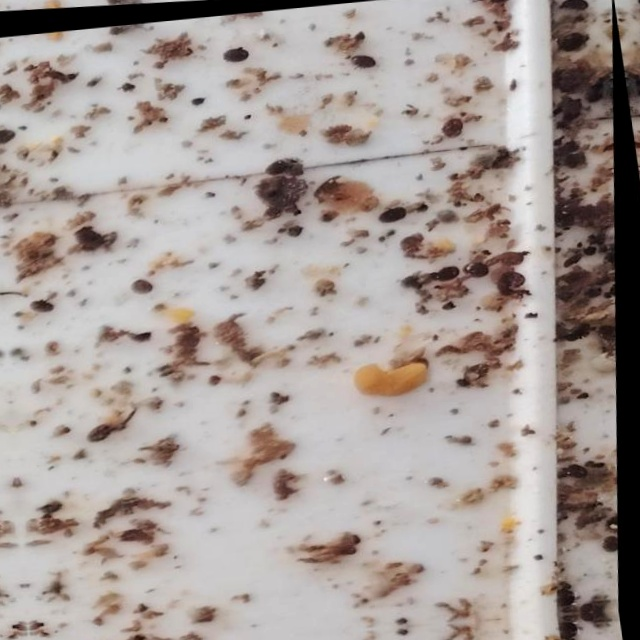varroa: (557, 33, 587, 55), (90, 420, 120, 441), (265, 156, 299, 174), (379, 204, 409, 224), (465, 260, 495, 279), (441, 118, 465, 140), (129, 276, 157, 294), (571, 462, 596, 482), (220, 45, 249, 62), (435, 264, 462, 282), (350, 53, 377, 70), (560, 587, 584, 606), (503, 270, 527, 289), (31, 296, 56, 311), (601, 325, 621, 343), (607, 535, 625, 553)
